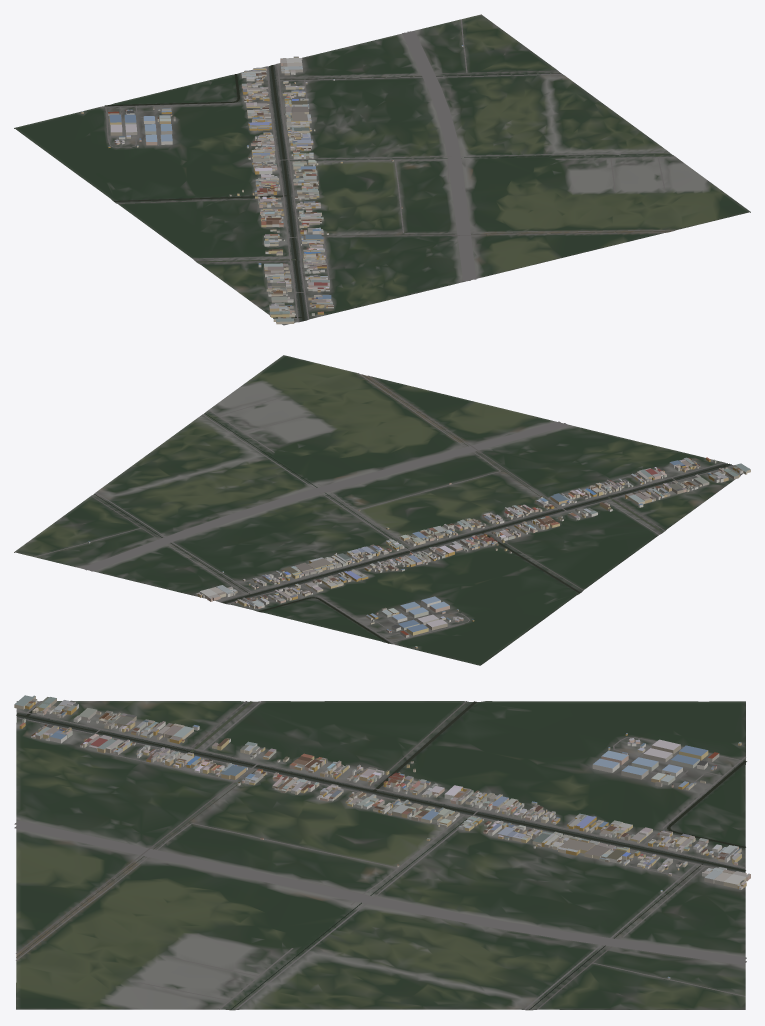
3 renders of one model, top to bottom at view 1: azimuth 30°, elevation 25°; view 2: azimuth 150°, elevation 25°; view 3: azimuth 270°, elevation 25°, orthographic. The views are drawn at different scales.
Visible parts, largest first — view 1: ground, buildings, roads, water; view 2: ground, buildings, roads, water; view 3: ground, buildings, roads, water.
Part boxes in pixels (x1=…): ground: x1=14, y1=14, x2=750, y2=325; buildings: x1=81, y1=45, x2=463, y2=324; roads: x1=99, y1=19, x2=676, y2=321; water: x1=104, y1=65, x2=670, y2=320; ground: x1=14, y1=355, x2=749, y2=665; buildings: x1=88, y1=457, x2=750, y2=648; roads: x1=34, y1=373, x2=740, y2=644; water: x1=94, y1=374, x2=740, y2=643; ground: x1=16, y1=701, x2=745, y2=1010; buildings: x1=14, y1=695, x2=750, y2=979; roads: x1=14, y1=701, x2=746, y2=1009; water: x1=16, y1=701, x2=746, y2=1009.
Bounding box in the file's own units: 1413 × 16.2 × 1415.
